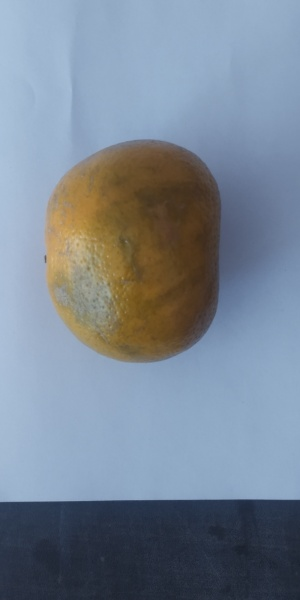BAD: (43, 140, 227, 364)
